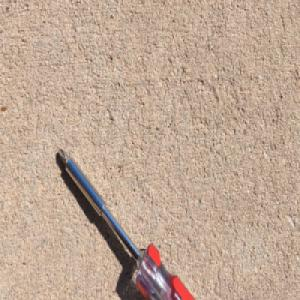Screwdriver: (57, 146, 200, 300)
